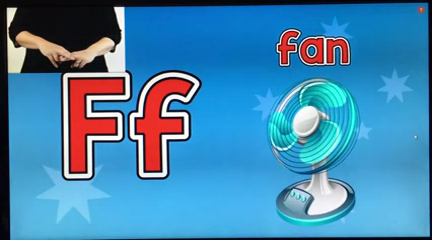F: (41, 35, 94, 70)
